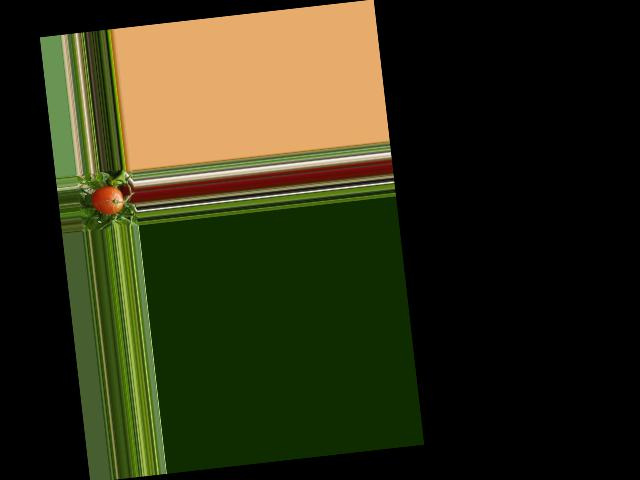tomato: (91, 185, 124, 216)
